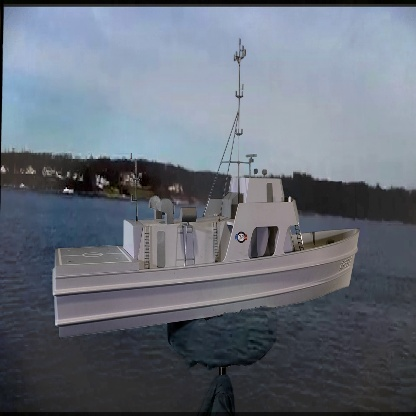YP689: (50, 37, 360, 341)
